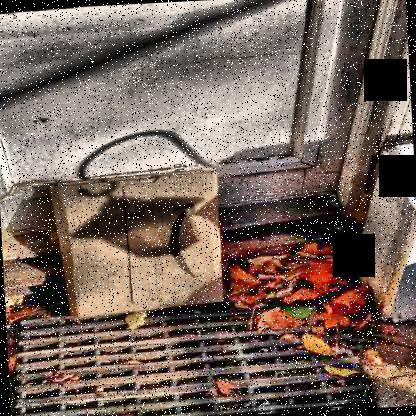no defect parcel: (43, 163, 234, 323)
